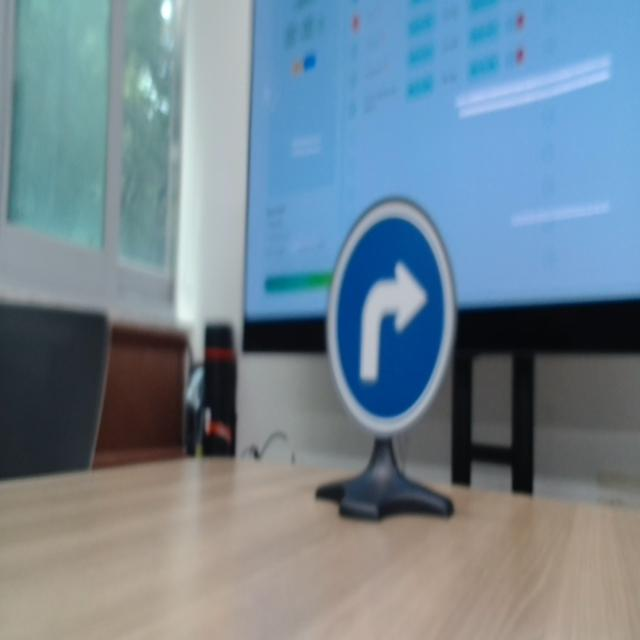right_dierection: (327, 179, 492, 466)
